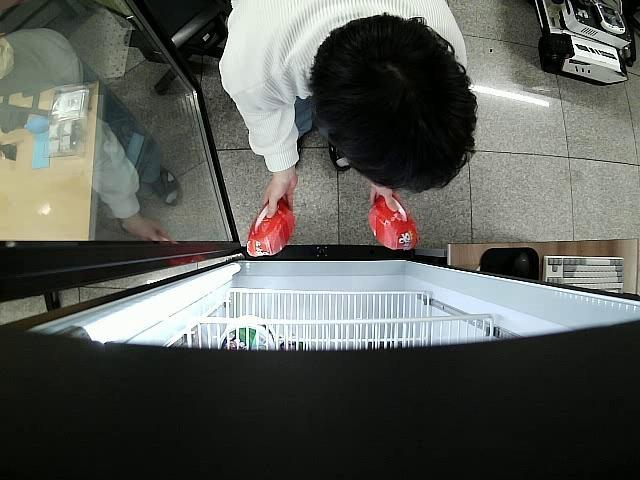10_wangTtukkeong: (366, 196, 419, 252), (247, 198, 296, 257)
